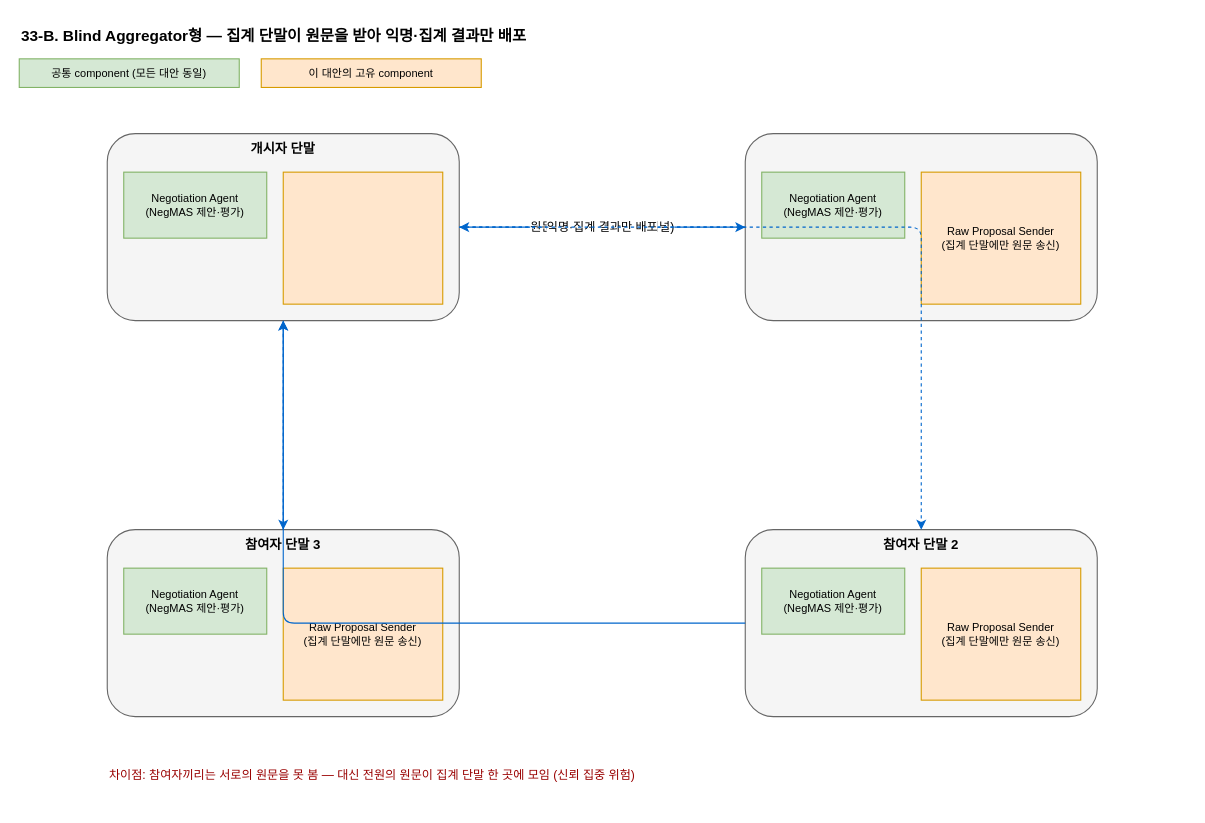
Image size: 1205x823. Some labels were removed from this diagram. The shapes that lost their labels are listed below. From the top down, each one's box as (x1, y1, x2, y2) in pixels, then its label:
(282, 171, 443, 304): Blind Aggregator 원문 제안 수신 (참여자 간 비공개) 익명화·집계 집계 결과만 배포
(744, 133, 1097, 321): 참여자 단말 1
